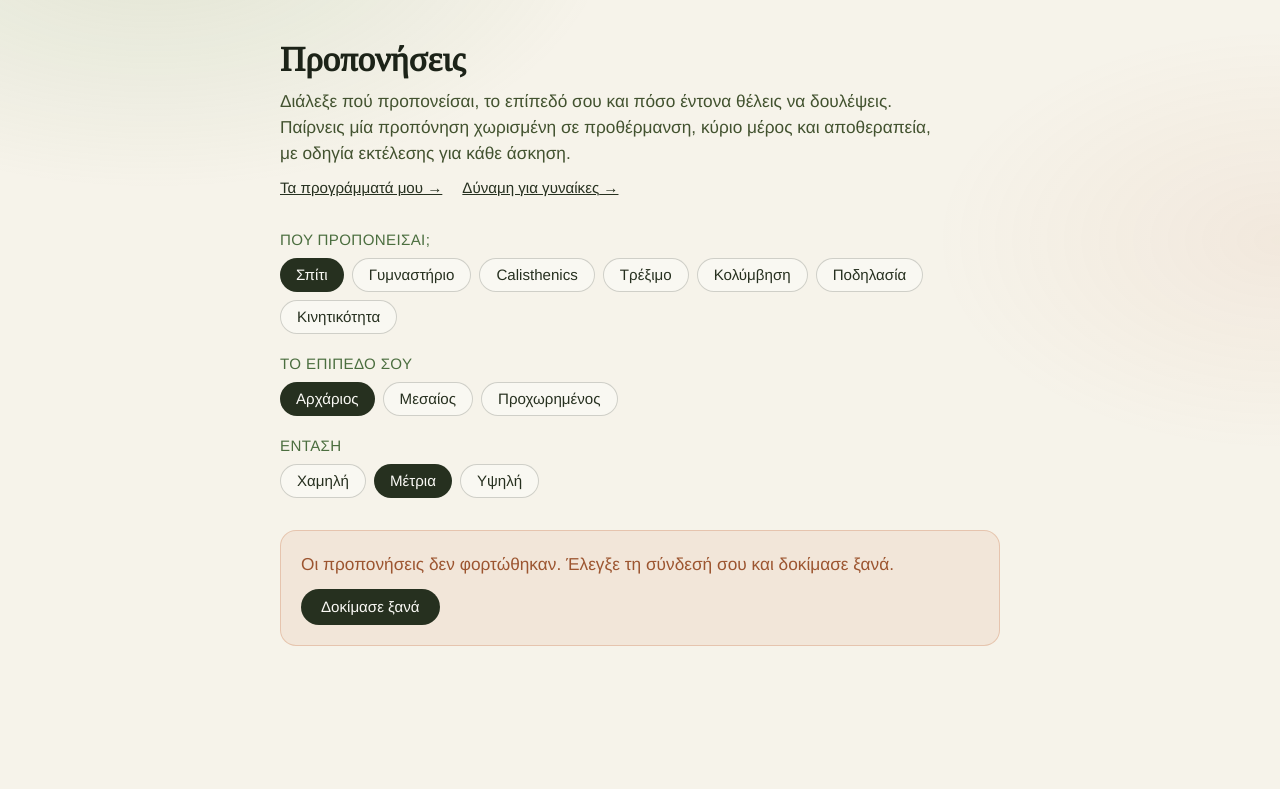
Test case: <WorkoutsPage> states › shows the error state when the source fails, and Retry asks the source again
Expected: the message shows "Οι προπονήσεις δεν φορτώθηκαν. Έλεγξε τη σύνδεσή σου και δοκίμασε ξανά.", [301,554,894,574]
Click the button "Δοκίμασε ξανά": point(370, 607) [301,589,440,625]
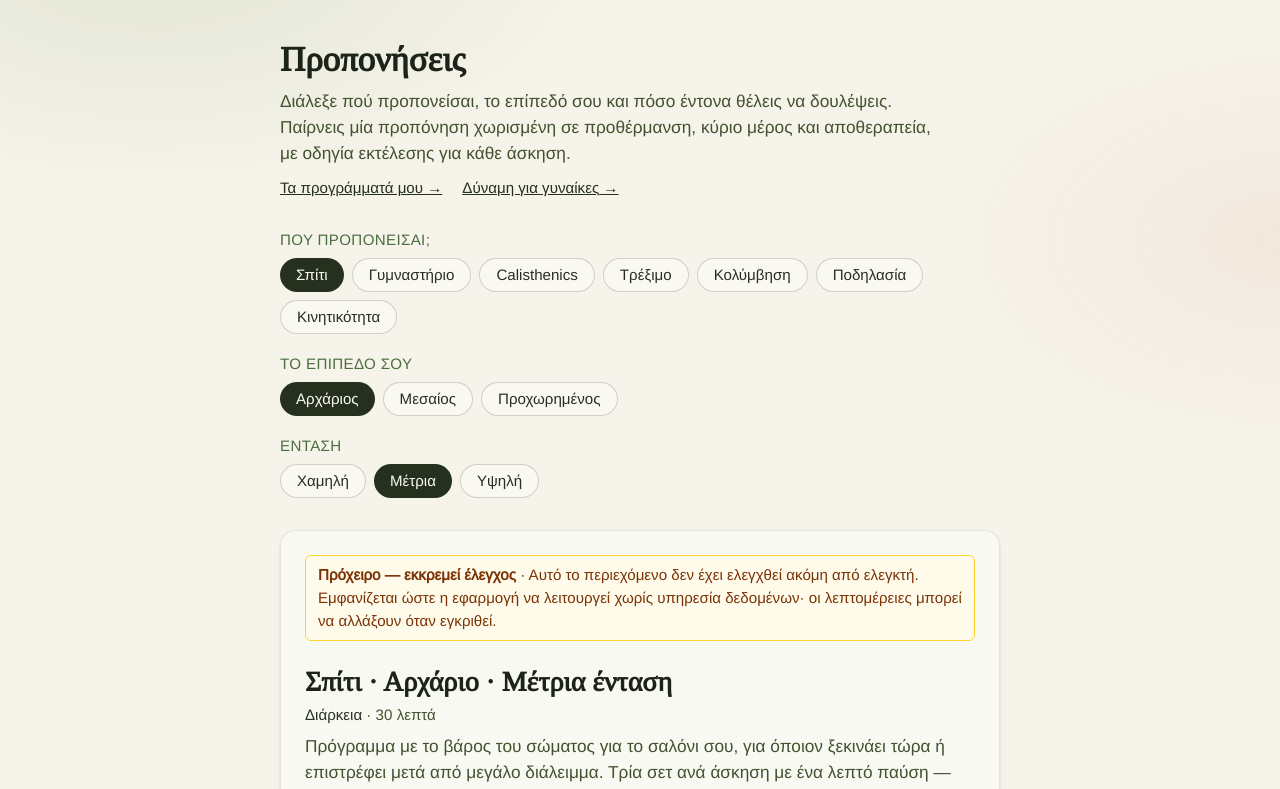
Result: the message is gone
